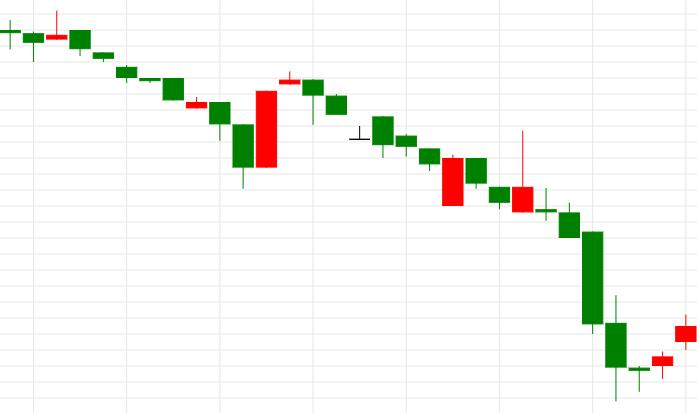inverse_hammer_rise: (302, 78, 534, 213)
